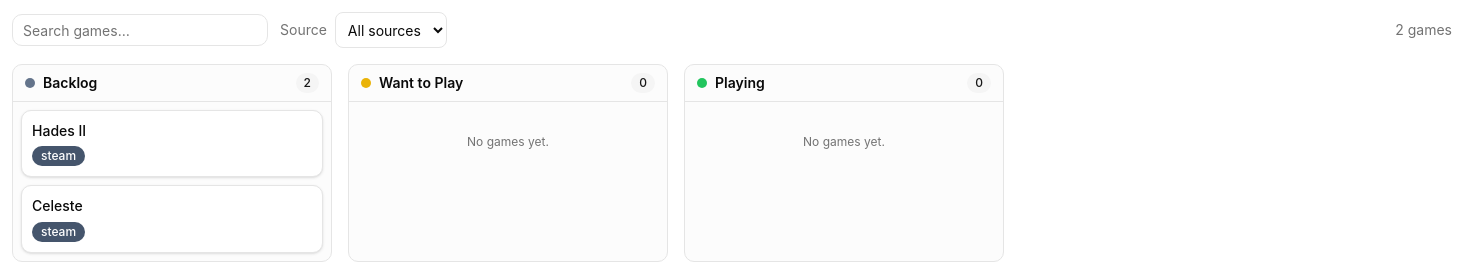
Test: BoardPage › clears the search via the clear button inside the input
Check: the number of elements with test id "board-column" is 3, box 13,65 -> 331,260; 349,65 -> 667,149; 685,65 -> 1003,149
Type "Celeste" into the field with placeholder "Search games…" at (140, 30), box 12,14 -> 268,46
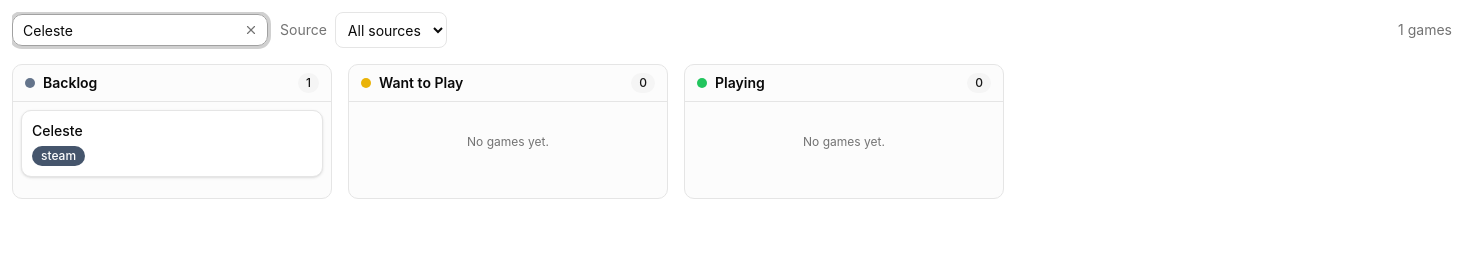
Check: the button "Hades II" is gone
Click the button named "clear search" at (251, 30), box 240,19 -> 262,41
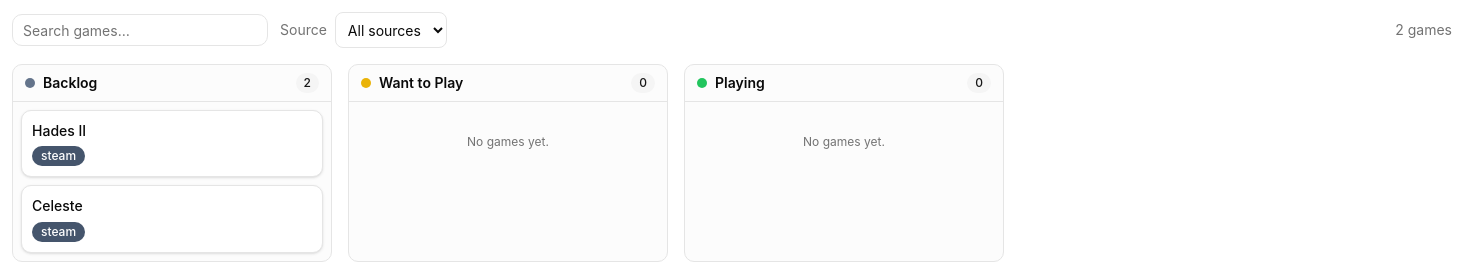
Check: the text "Celeste" is shown, box 32,197 -> 83,214
Check: the field with placeholder "Search games…" is empty, box 12,14 -> 268,46
Check: the text "Hades II" is shown, box 32,122 -> 86,139
